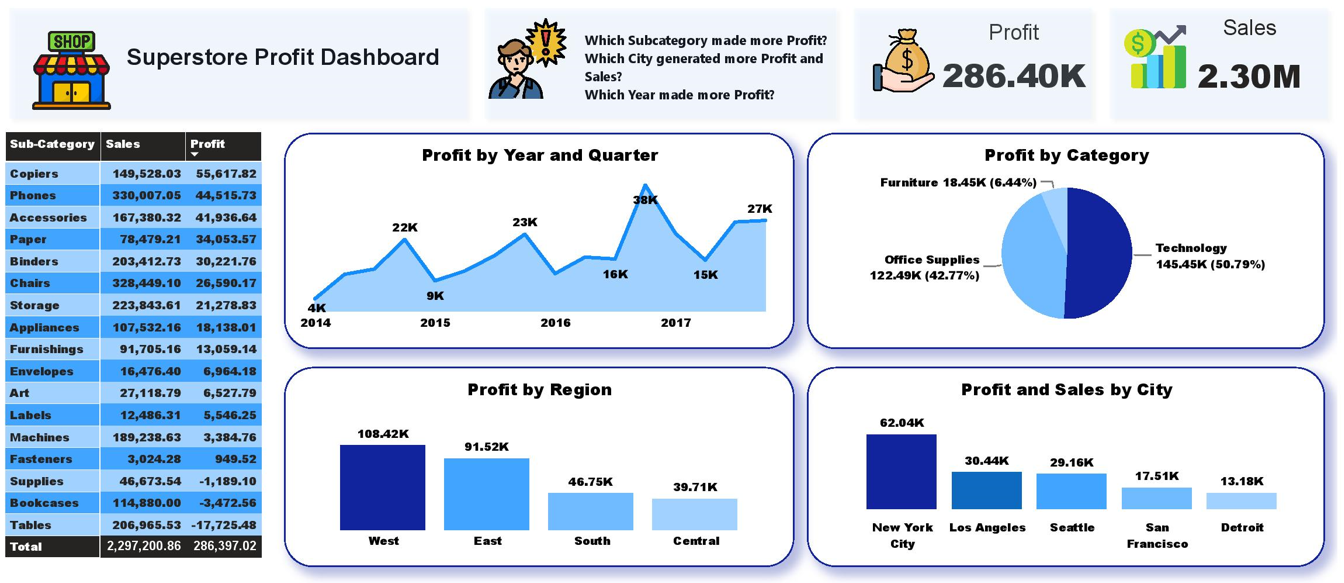

What the dashboard file says about the page in this screenshot:
{"tool":"powerbi","page":{"name":"Dashboard","canvas":[1400,630],"ordinal":0},"visuals":[{"type":"columnChart","fields":{"Category":["Sample - Superstore.Region"],"Y":["Sum(Sample - Superstore.Profit)"]},"box":[297.2,384.9,533.5,209.5],"z":0},{"type":"textbox","box":[111.4,40.6,370.3,60.2],"z":1000},{"type":"pieChart","fields":{"Y":["Sum(Sample - Superstore.Profit)"],"Category":["Sample - Superstore.Category"]},"box":[845,139.6,542.5,225.6],"z":2000},{"type":"areaChart","fields":{"Category":["Sample - Superstore.Order Date.Variation.Date Hierarchy.Year","Sample - Superstore.Order Date.Variation.Date Hierarchy.Quarter","Sample - Superstore.Order Date.Variation.Date Hierarchy.Month","Sample - Superstore.Order Date.Variation.Date Hierarchy.Day"],"Y":["Sum(Sample - Superstore.Profit)"]},"box":[297.2,139.6,533.5,225.6],"z":3000},{"type":"textbox","box":[606.9,10.7,300.8,123.5],"z":4000},{"type":"card","title":"Profit","fields":{"Values":["Sum(Sample - Superstore.Profit)"]},"box":[958.9,15.1,201.7,100.9],"z":5000},{"type":"pivotTable","fields":{"Rows":["Sample - Superstore.Sub-Category"],"Values":["Sum(Sample - Superstore.Sales)","Sum(Sample - Superstore.Profit)"]},"box":[0,134.3,284.7,460.1],"z":6000},{"type":"shape","box":[497.7,0,386.7,134.3],"z":7000},{"type":"shape","box":[1153.1,0,246.9,134],"z":8000},{"type":"card","title":"Sales","fields":{"Values":["Sum(Sample - Superstore.Sales)"]},"box":[1217.8,16.6,182.2,100.9],"z":9000},{"type":"image","box":[1153.1,16.6,112.9,87.3],"z":10000},{"type":"shape","box":[885.2,0,268,134],"z":11000},{"type":"image","box":[481.6,14.3,139.6,96.7],"z":12000},{"type":"image","box":[907.7,22.6,76.8,81.3],"z":13000},{"type":"shape","box":[0,0,497.7,134.3],"z":14000},{"type":"image","box":[23.3,25.1,102,98.5],"z":15000},{"type":"columnChart","fields":{"Category":["Sample - Superstore.City"],"Y":["Sum(Sample - Superstore.Profit)"]},"box":[845,384.9,542.5,209.5],"z":16000}]}

Visuals, with their boxes in screenshot pixels (x1, y1, x2, y2):
columnChart - Sample - Superstore.Region x Sum(Sample - Superstore.Profit): bbox(282, 362, 788, 560)
textbox: bbox(106, 35, 457, 92)
pieChart - Sum(Sample - Superstore.Profit) x Sample - Superstore.Category: bbox(802, 129, 1316, 343)
areaChart - Sample - Superstore.Order Date.Variation.Date Hierarchy.Year x Sample - Superstore.Order Date.Variation.Date Hierarchy.Quarter: bbox(282, 129, 788, 343)
textbox: bbox(576, 7, 861, 124)
"Profit" card: bbox(910, 11, 1101, 107)
pivotTable - Sample - Superstore.Sub-Category x Sum(Sample - Superstore.Sales): bbox(0, 124, 270, 560)
shape: bbox(472, 0, 839, 124)
shape: bbox(1094, 0, 1328, 124)
"Sales" card: bbox(1155, 12, 1328, 108)
image: bbox(1094, 12, 1201, 95)
shape: bbox(840, 0, 1094, 124)
image: bbox(457, 10, 589, 102)
image: bbox(861, 18, 934, 95)
shape: bbox(0, 0, 472, 124)
image: bbox(22, 20, 119, 114)
columnChart - Sample - Superstore.City x Sum(Sample - Superstore.Profit): bbox(802, 362, 1316, 560)
